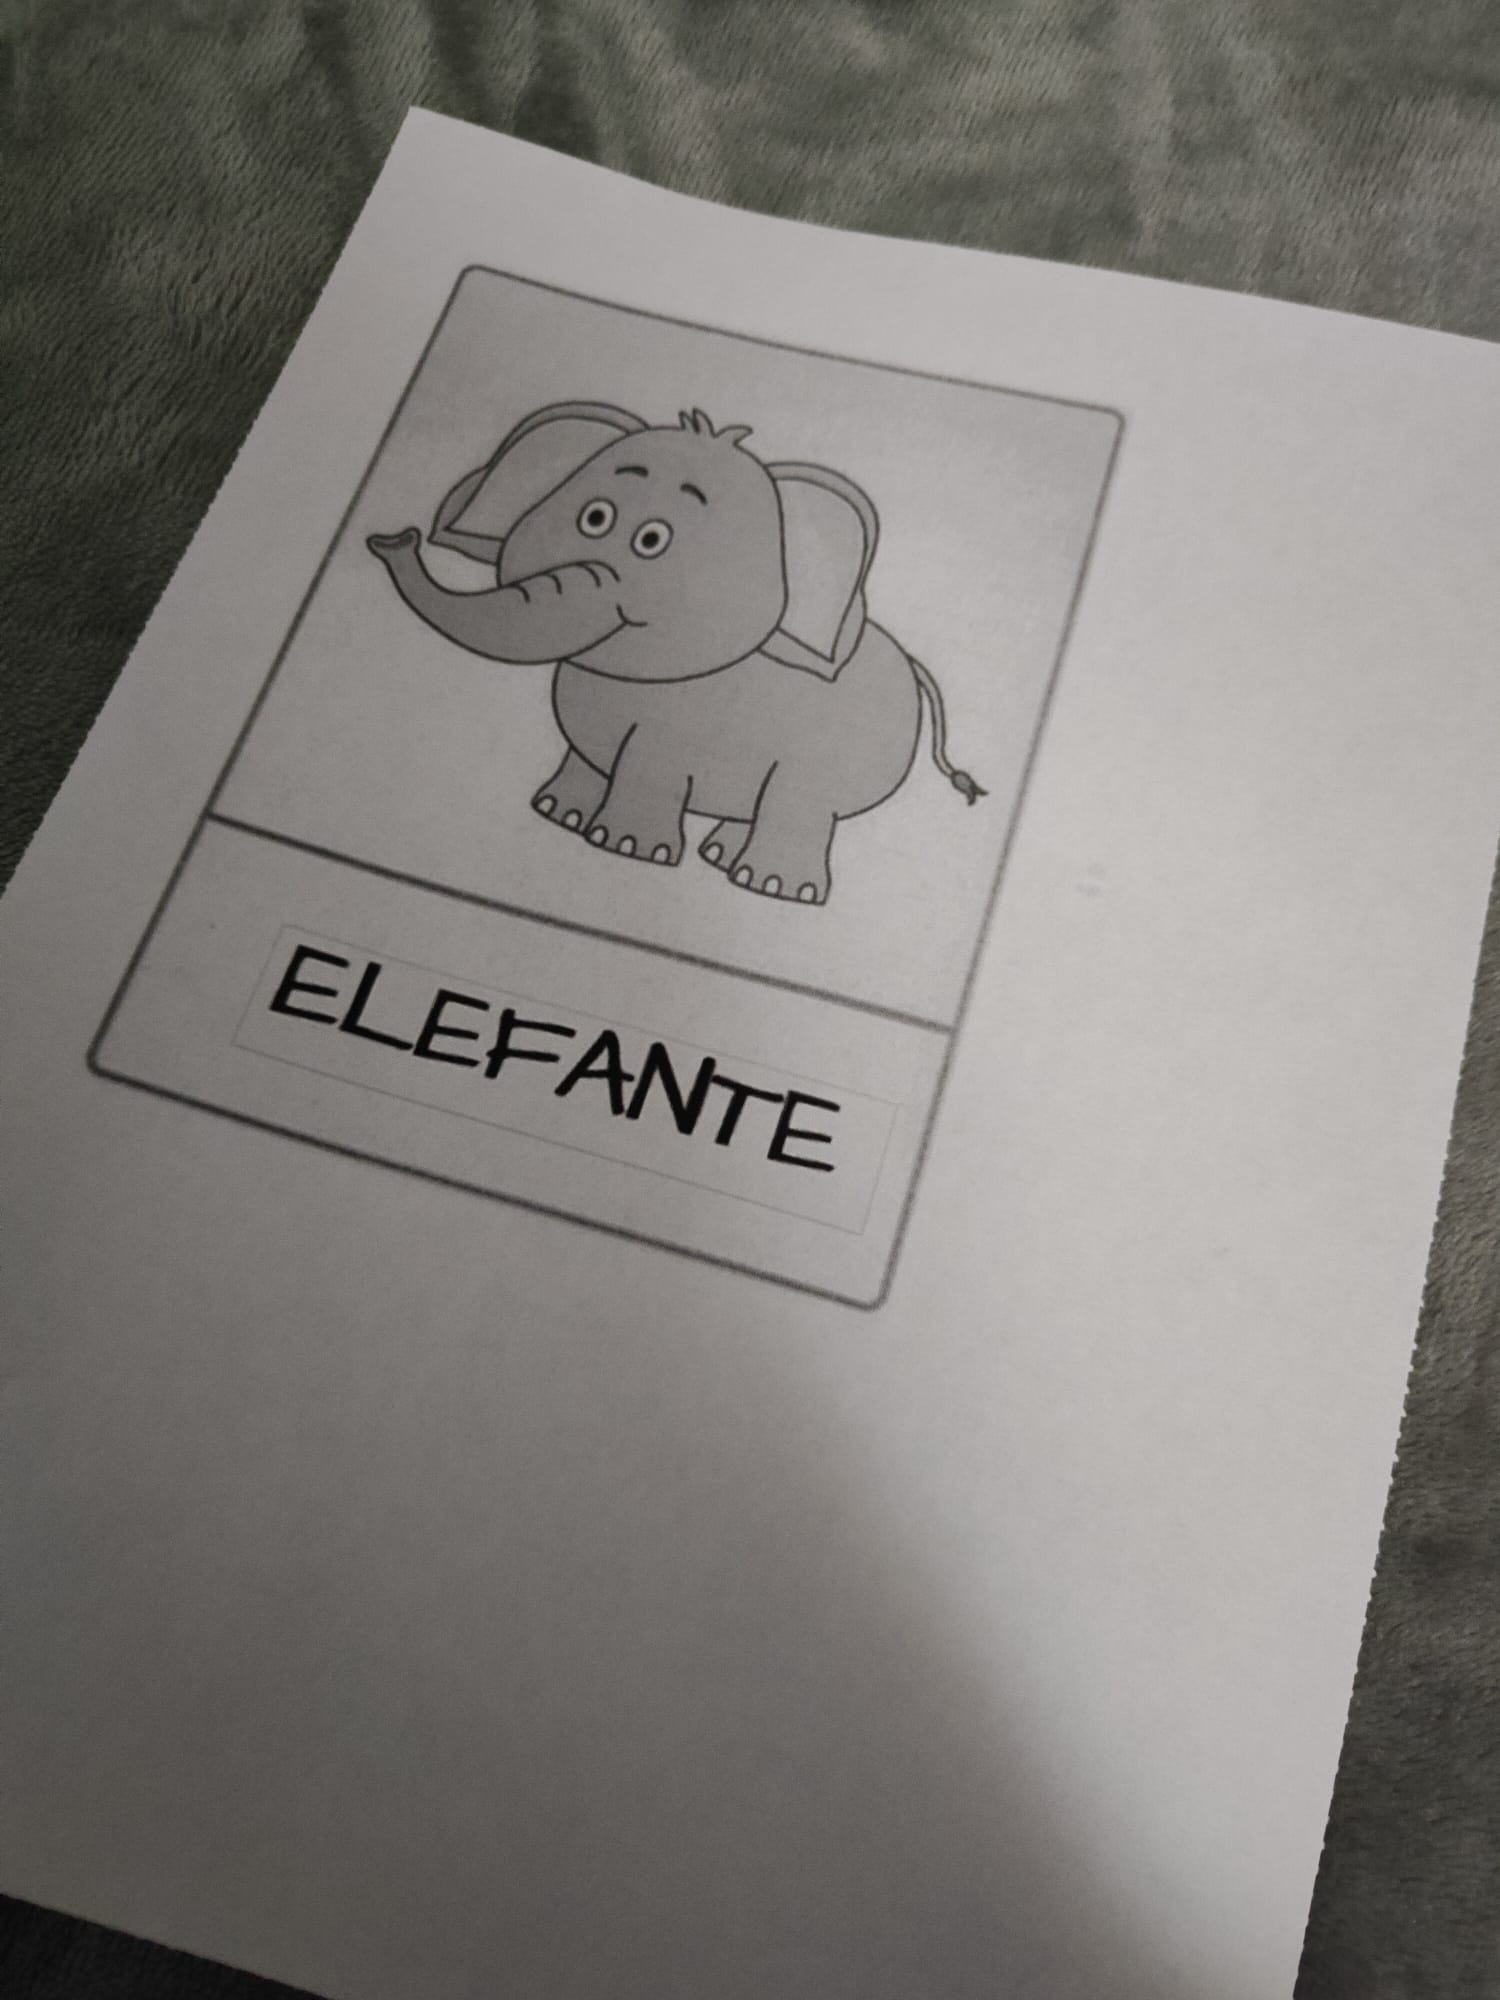elefante: (296, 281, 1031, 1256)
